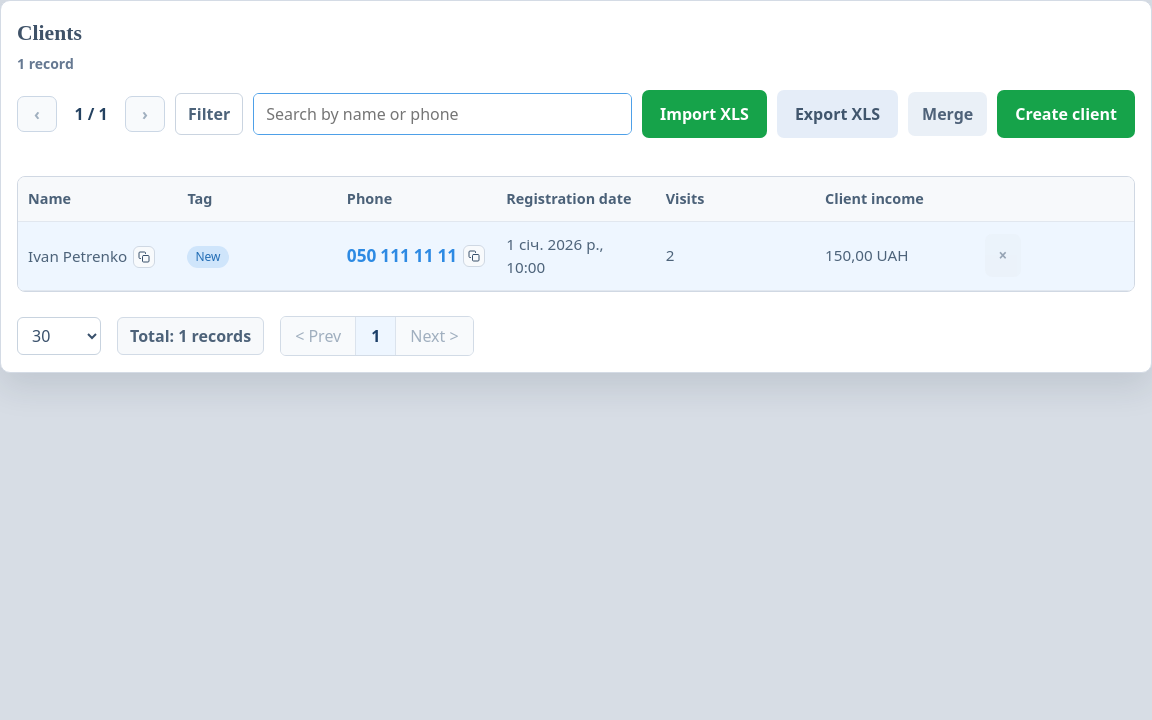
Test: ClientsWorkspace › filters client sales history by search query
The width and height of the screenshot is (1152, 720).
Click the text "Ivan Petrenko" at (78, 257), box [28, 245, 127, 268]
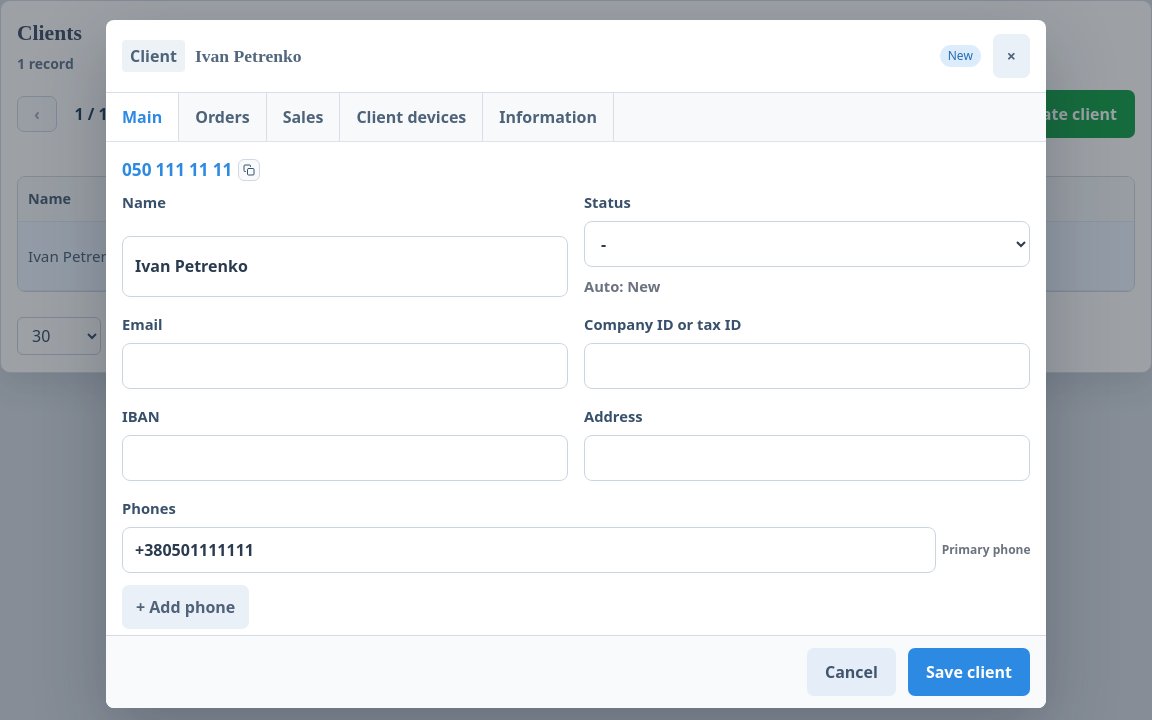
Click the tab "Sales" at (304, 117), box [267, 93, 340, 141]
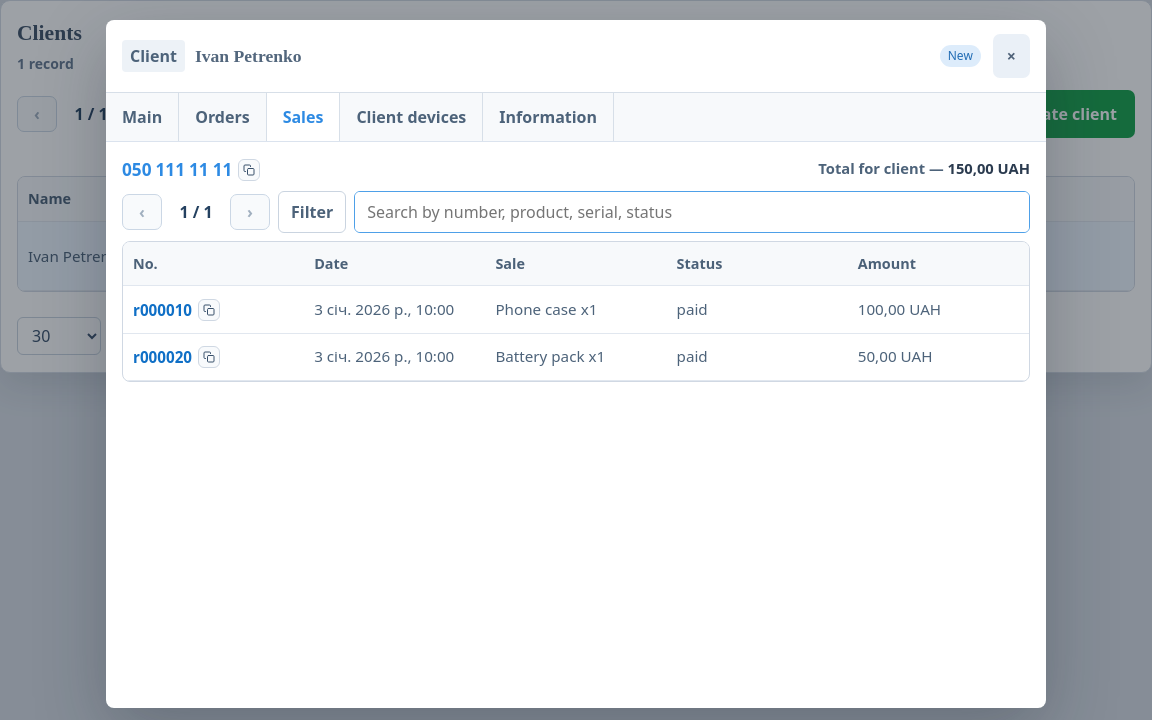
Type "Battery" into the field named "Search in client list" at (692, 212), box [355, 192, 1029, 232]
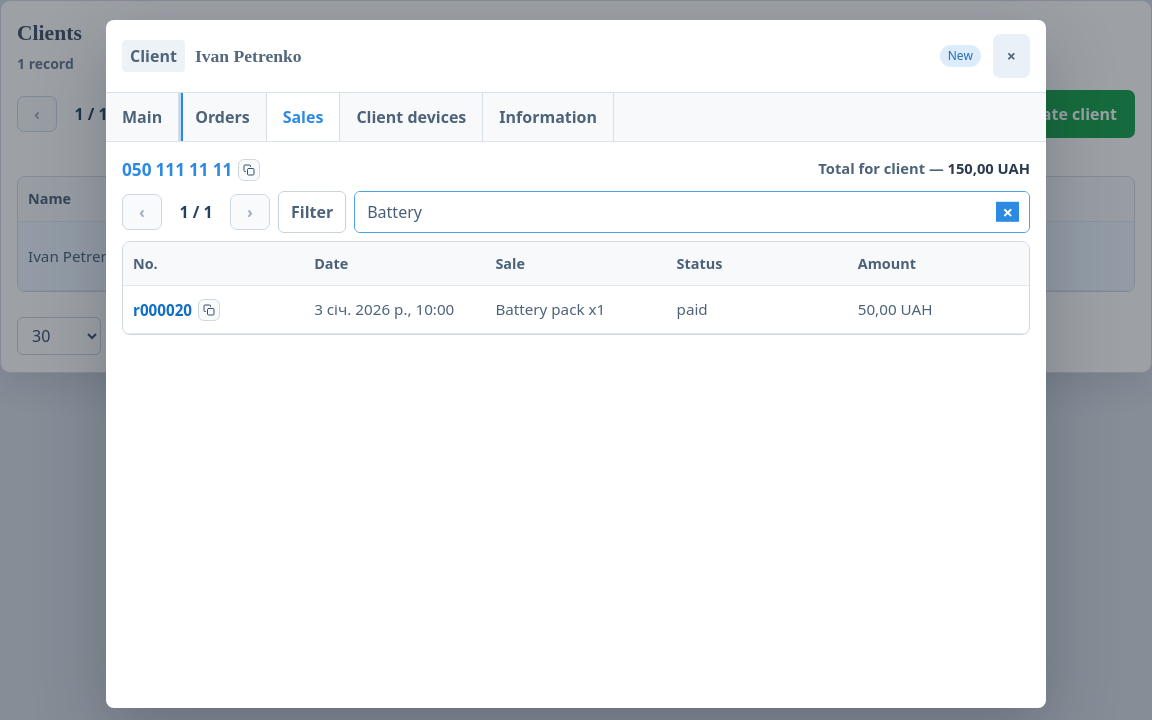
Check: the link "r000020" is shown, box [133, 299, 192, 322]
Check: the link "r000010" is gone
